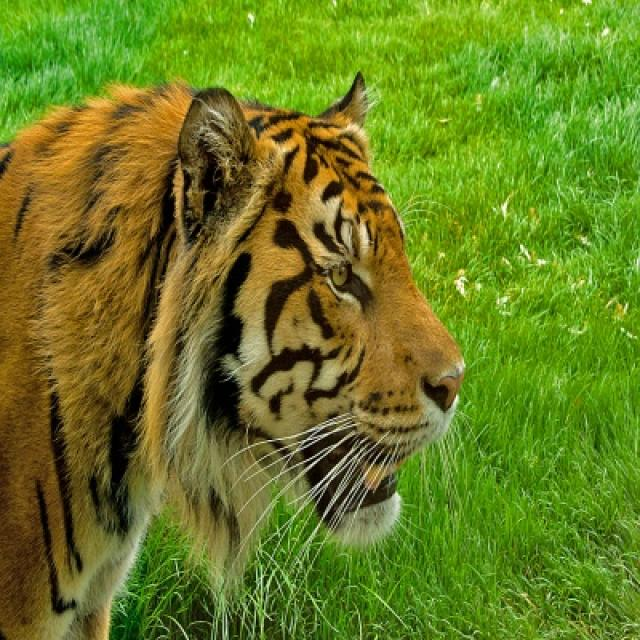Tiger: (2, 71, 465, 636)
